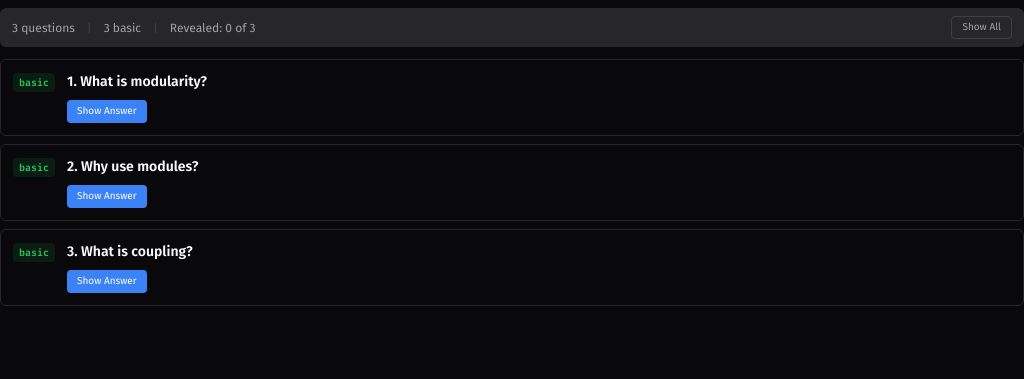
Test: ComprehensionCheck › reveals answer on Show Answer click
The width and height of the screenshot is (1024, 379).
What coordinates should you click on to do the following:
click the button "Show Answer" below "What is modularity?"
I would click on:
 (107, 112)
Its box is [67,100,147,123].
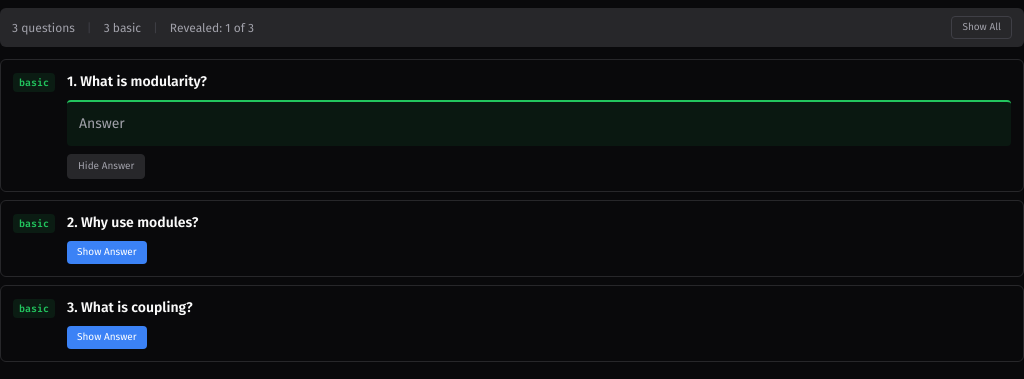
Check: the text "Answer" is shown, box [79,115,125,132]
